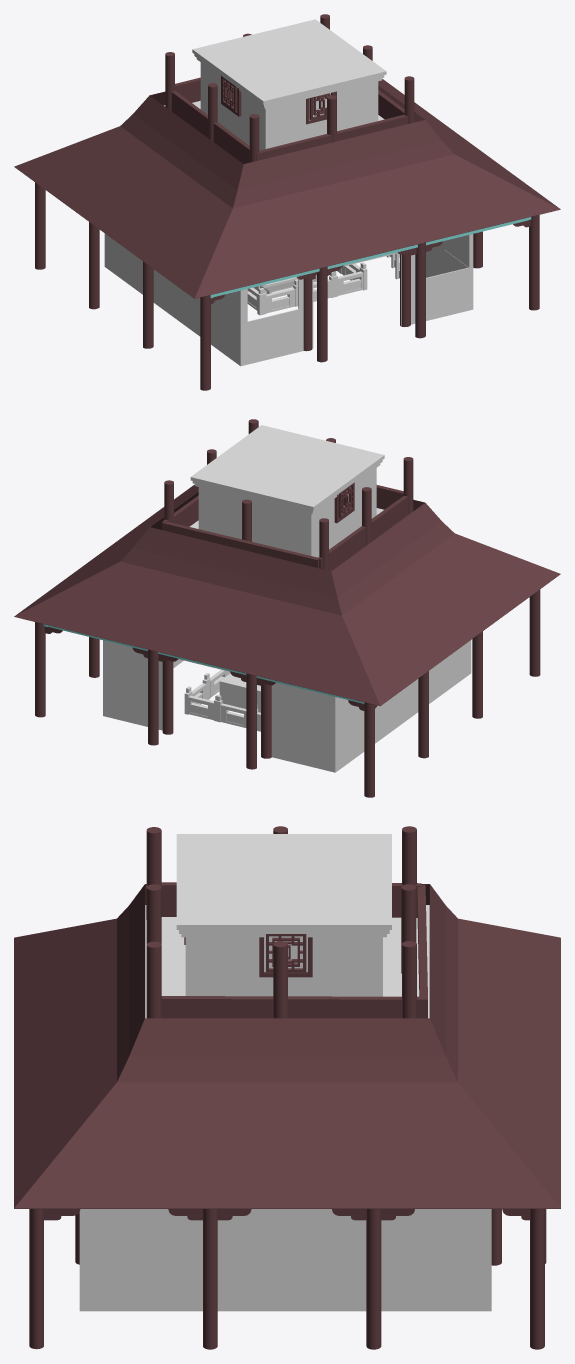
File: interior_objects_v2.fbx
3 renders of one model, top to bottom at view 1: azimuth 30°, elevation 25°; view 2: azimuth 150°, elevation 25°; view 3: azimuth 270°, elevation 25°, orthographic. The views are drawn at different scales.
Parts seen in each view (by area): view 1: Cube.008, upper_hall, Plane.008, Cylinder.176, Cube.017, Cylinder.181, Cube.054, Cube.063, Cube.018, Cube.019, Cube.066; view 2: Cube.008, upper_hall, Plane.008, Cylinder.176, Cube.017, Cylinder.181, Cube.072, Cube.043, Cube.058, Cube.063, Cube.066, Cube.018; view 3: Cube.008, Plane.008, upper_hall, Cylinder.176, Cube.017, Cylinder.181, Plane.007, Cube.066, Cube.018.
Part boxes in pixels (<box>): Cube.008: <box>14,79,560,298</box>; upper_hall: <box>192,19,386,150</box>; Plane.008: <box>104,233,473,366</box>; Cylinder.176: <box>35,182,539,390</box>; Cube.017: <box>171,77,407,163</box>; Cylinder.181: <box>165,14,414,162</box>; Cube.054: <box>257,271,363,315</box>; Cube.063: <box>210,217,531,298</box>; Cube.018: <box>221,76,241,116</box>; Cube.019: <box>306,91,336,124</box>; Cube.066: <box>211,219,530,304</box>; Cube.008: <box>14,484,560,706</box>; upper_hall: <box>190,425,384,557</box>; Plane.008: <box>103,640,471,772</box>; Cylinder.176: <box>35,589,540,797</box>; Cube.017: <box>162,485,408,571</box>; Cylinder.181: <box>164,419,413,570</box>; Cube.072: <box>188,694,260,731</box>; Cube.043: <box>219,673,260,712</box>; Cube.058: <box>184,669,230,714</box>; Cube.063: <box>44,624,364,703</box>; Cube.066: <box>44,626,377,710</box>; Cube.018: <box>334,482,354,523</box>; Cube.008: <box>14,884,560,1208</box>; Plane.008: <box>79,1209,491,1311</box>; upper_hall: <box>176,834,391,996</box>; Cylinder.176: <box>29,1209,546,1349</box>; Cube.017: <box>146,882,427,1018</box>; Cylinder.181: <box>146,826,416,1018</box>; Plane.007: <box>145,905,429,1018</box>; Cube.066: <box>43,1209,530,1220</box>; Cube.018: <box>259,934,312,977</box>.
Bounding box in the file's own units: 1556 × 926 × 1327.
